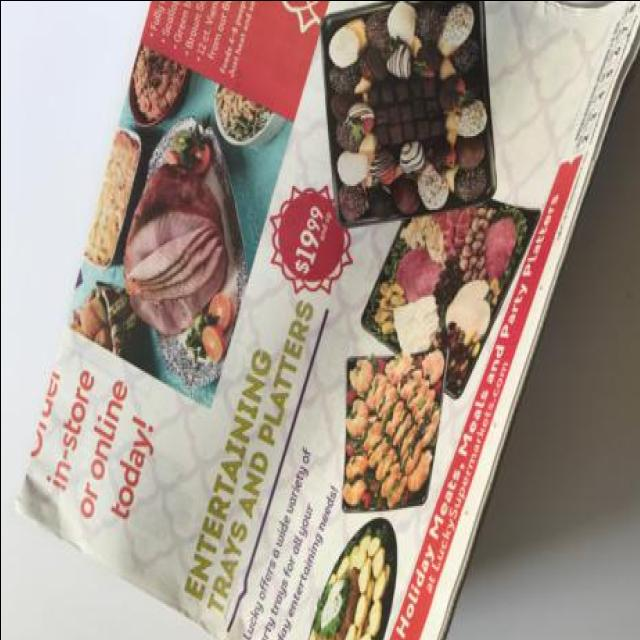kertas: (11, 0, 640, 640)
